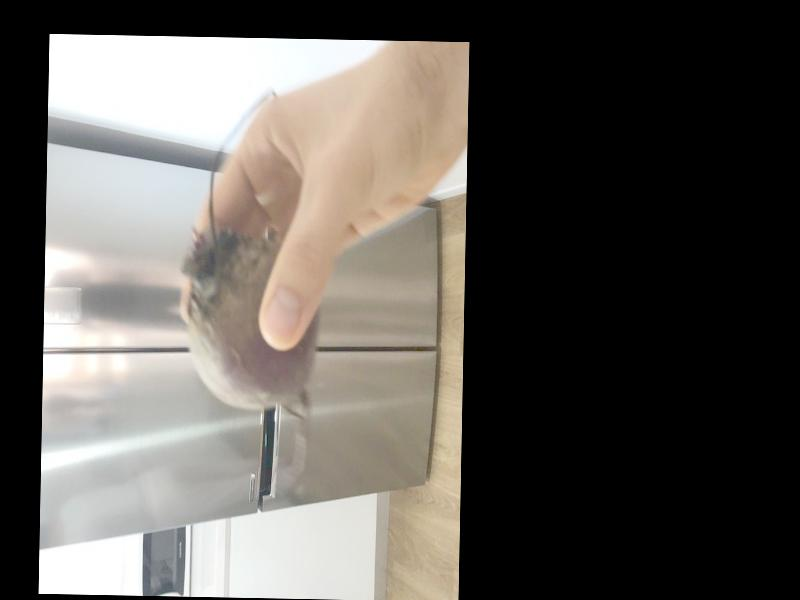Beet: (178, 89, 322, 441)
